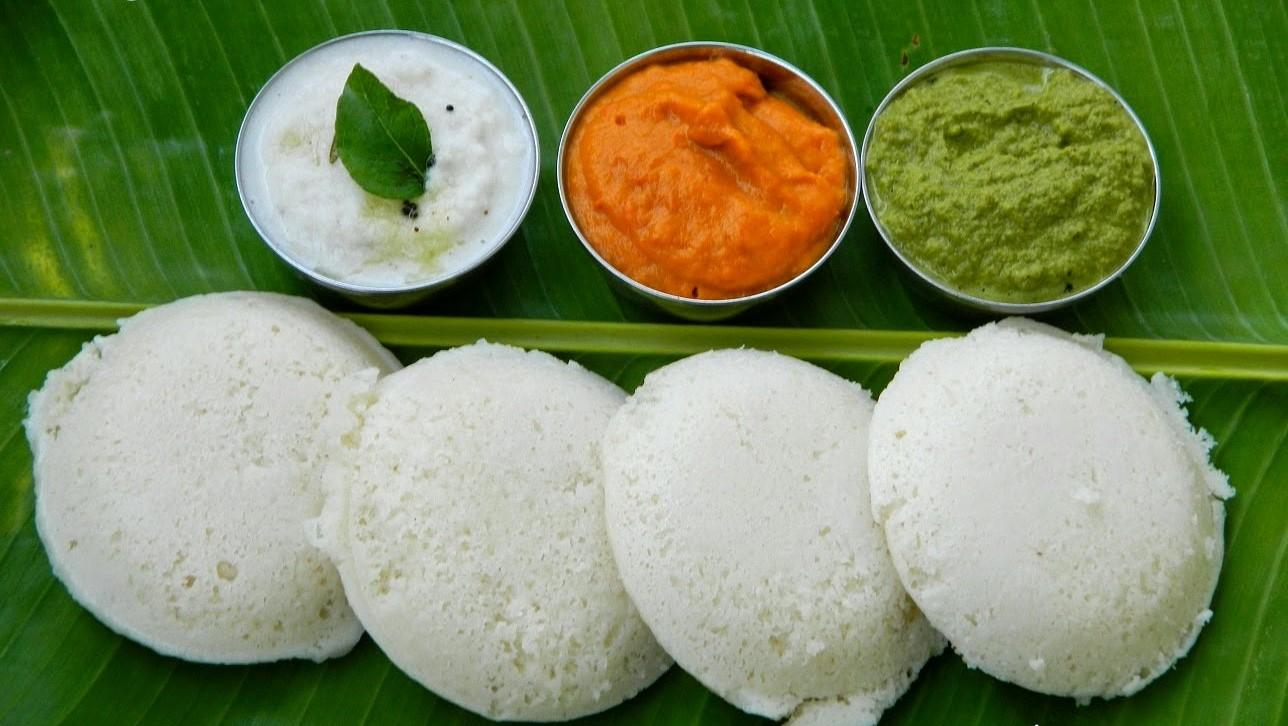CoconutChutney: (237, 32, 533, 289)
GreenChutney: (869, 63, 1155, 304)
Idli: (865, 315, 1234, 709), (594, 345, 954, 726), (26, 287, 378, 667), (334, 339, 674, 726)
